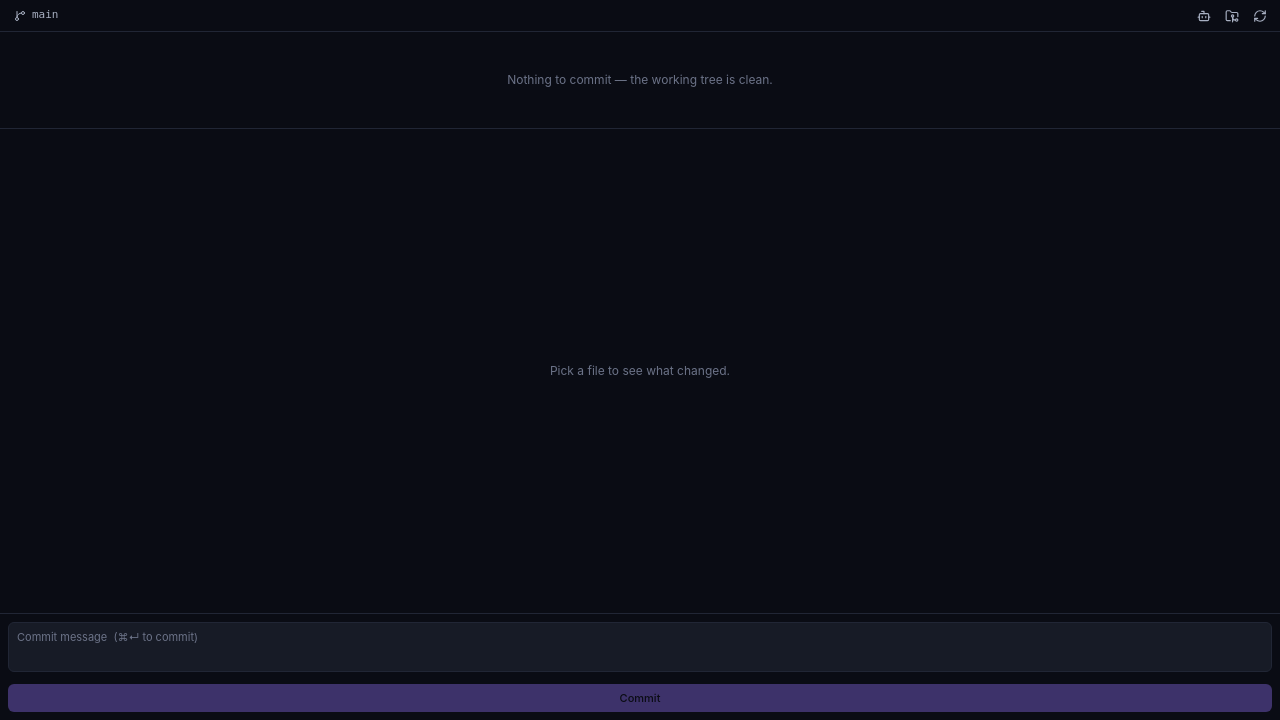
GitView › opens the branch dialog from the header, and blocks the pane chords while it is up
The width and height of the screenshot is (1280, 720).
Click the button titled "Switch or create a branch" at (36, 16), box [8,5,64,26]
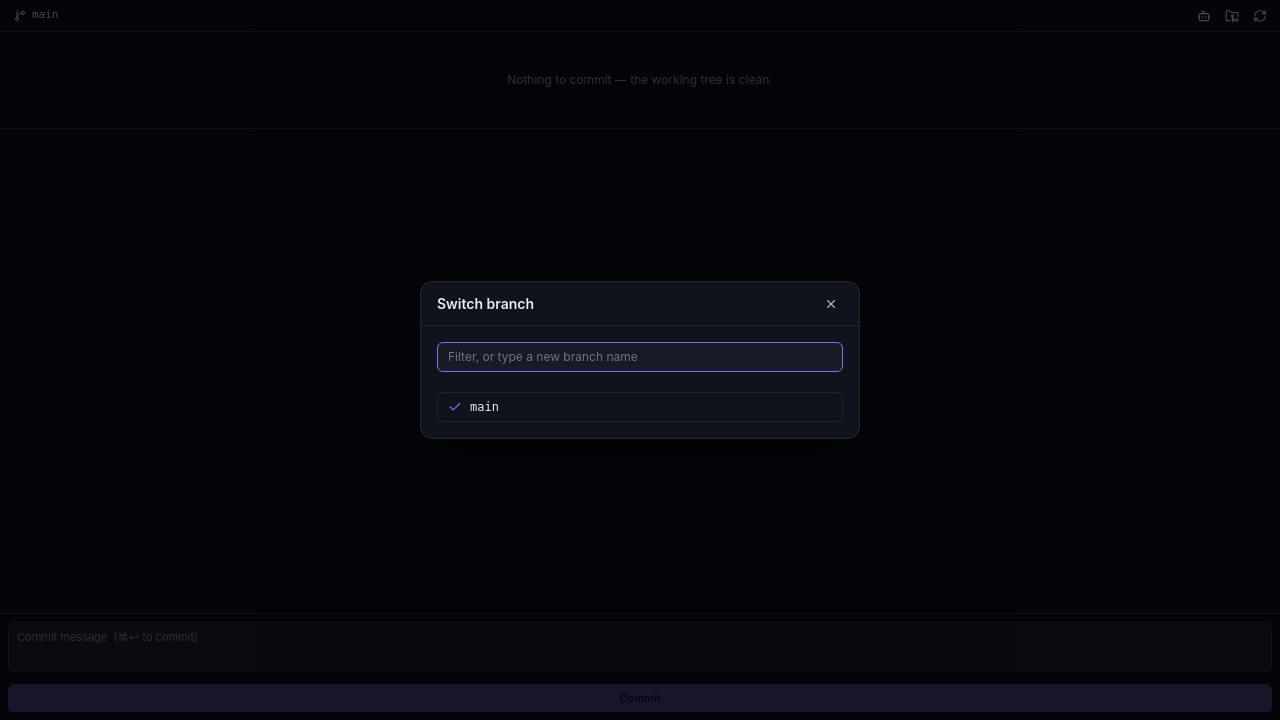
expect the dialog is shown: met, box [420,281,860,439]
